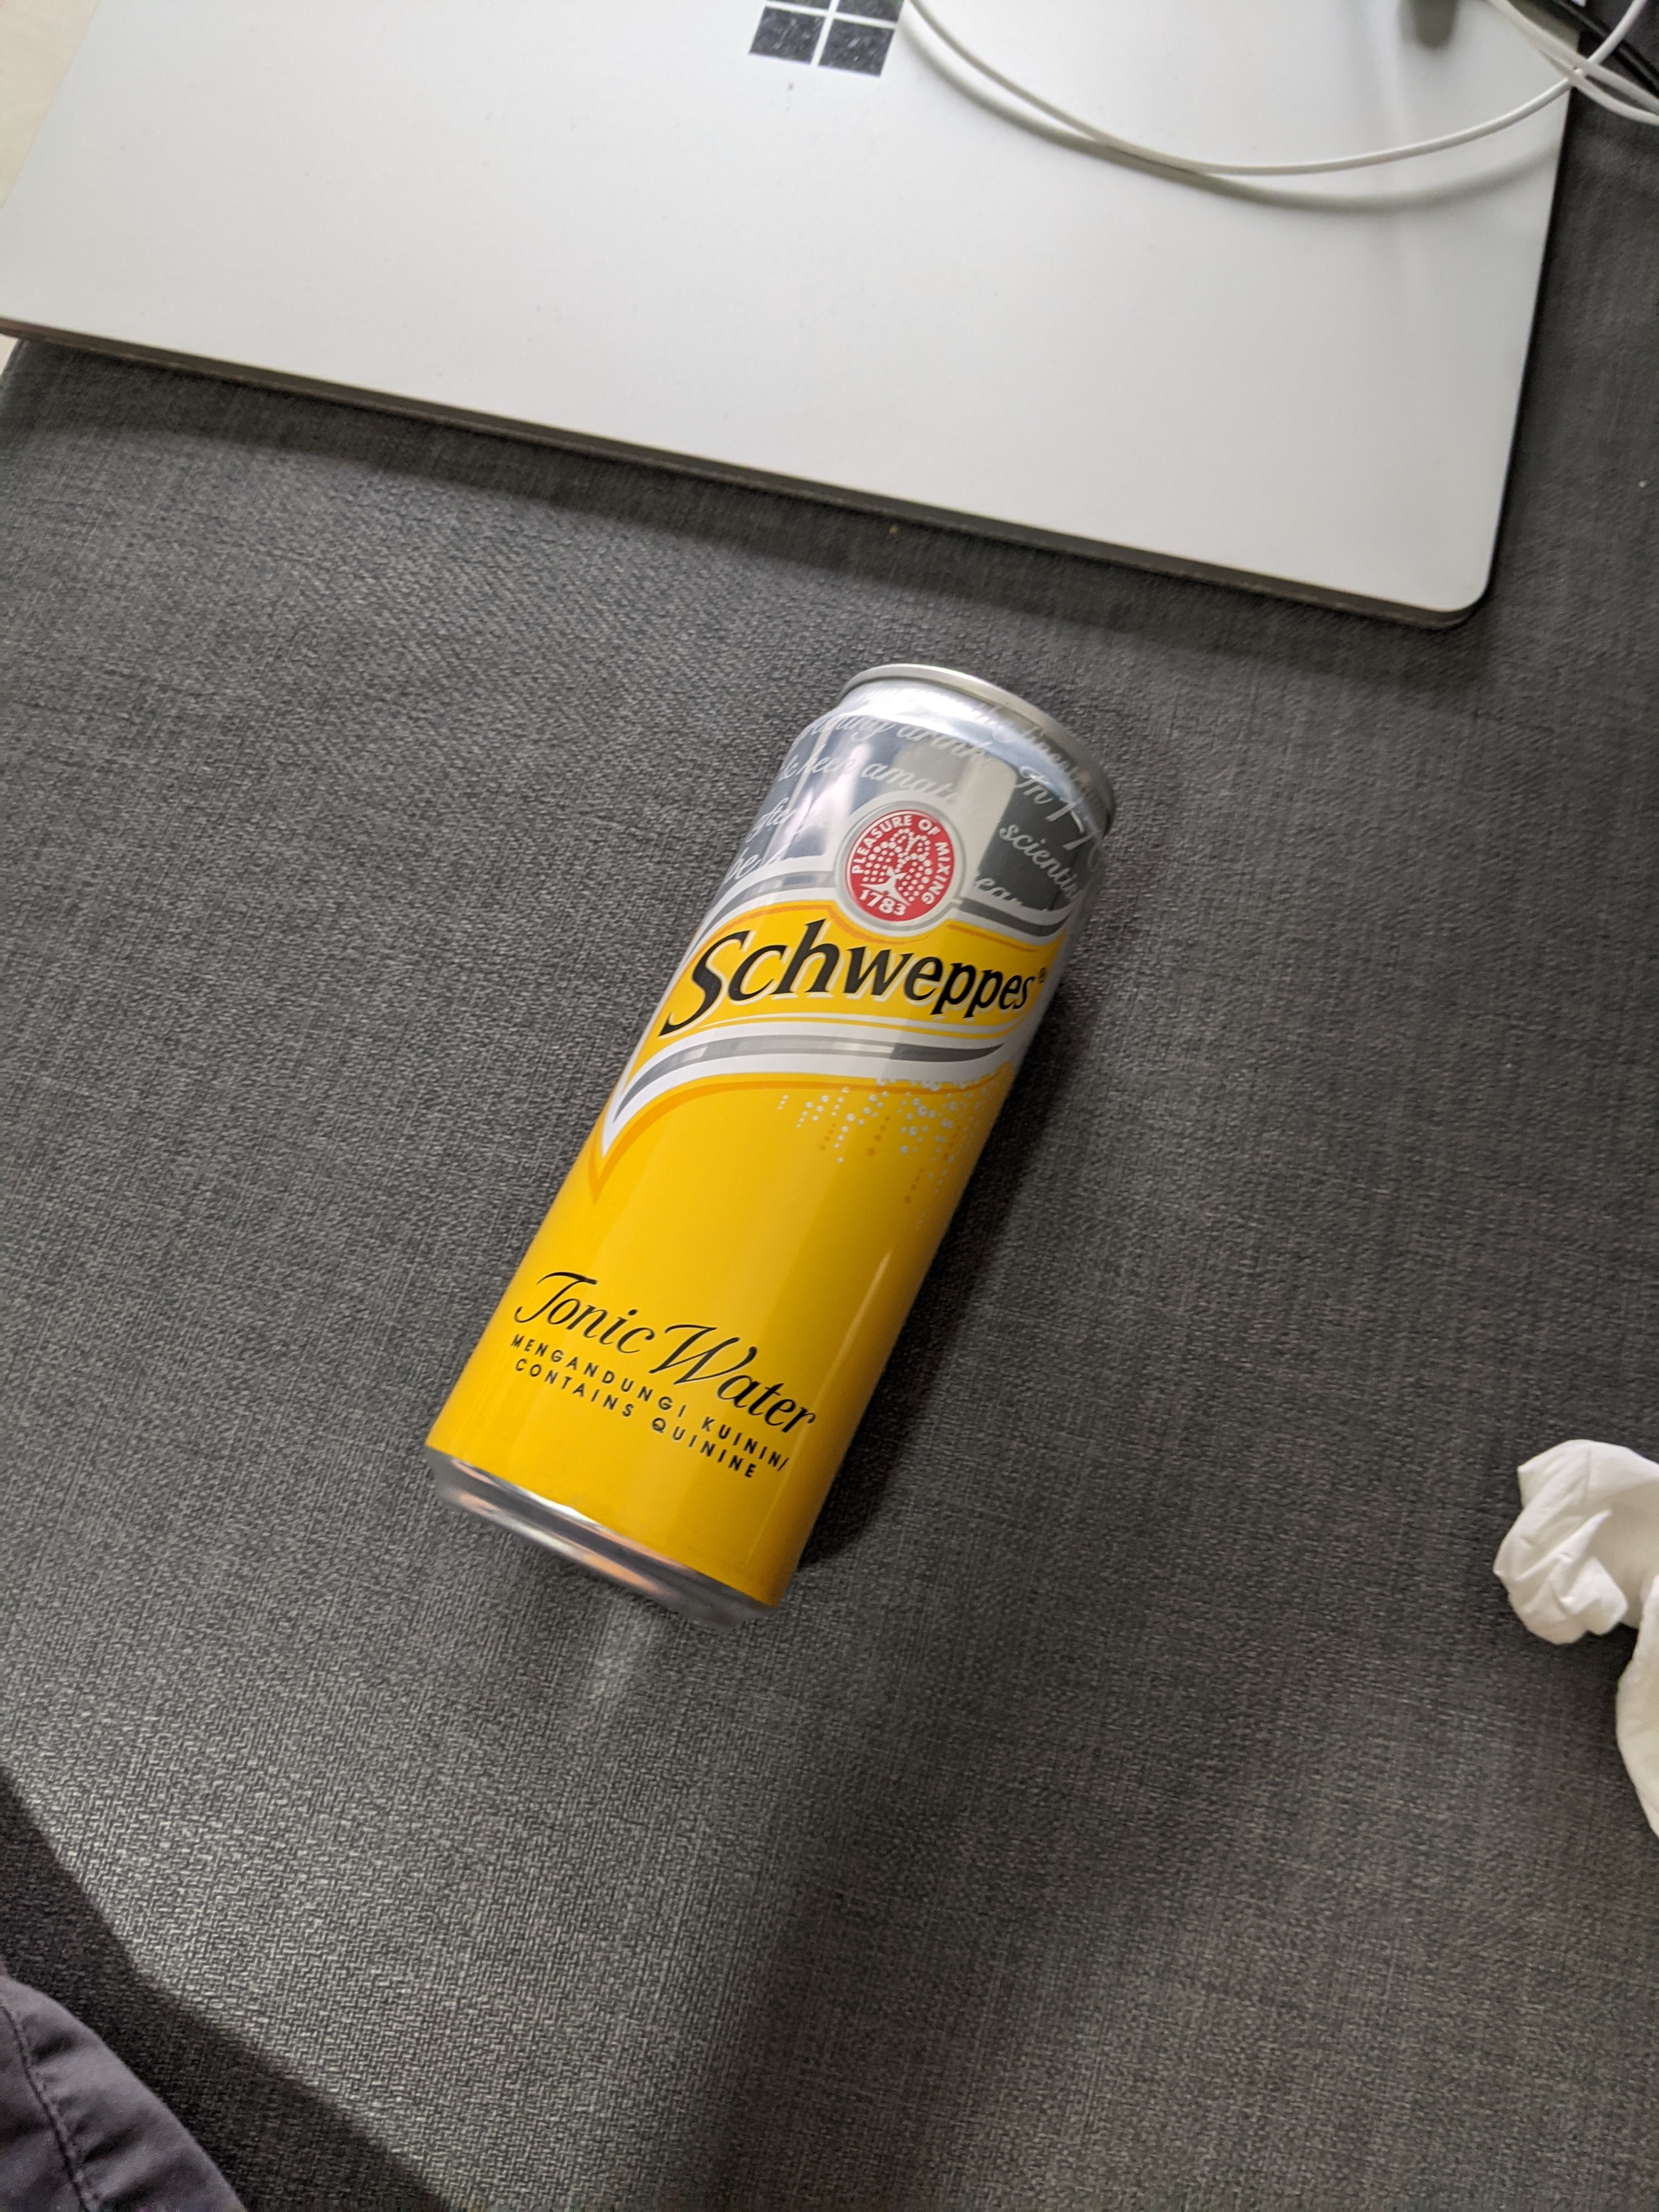schweppes drink can tonic water: (376, 613, 1141, 1683)
